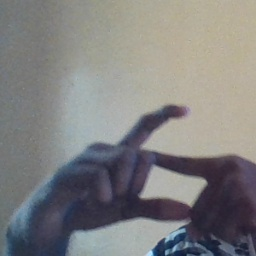E: (113, 101, 205, 230)
